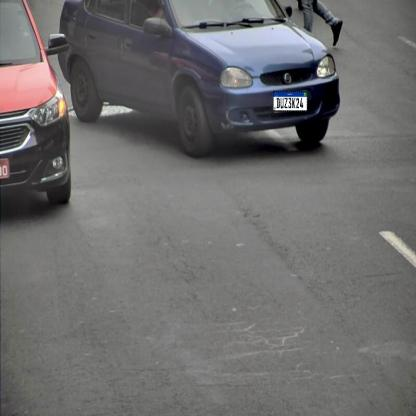PlacaM: (273, 90, 307, 112)
